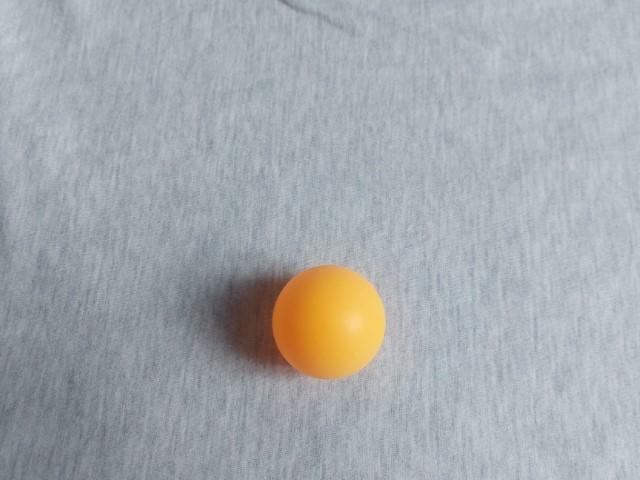oball: (242, 93, 374, 222)
